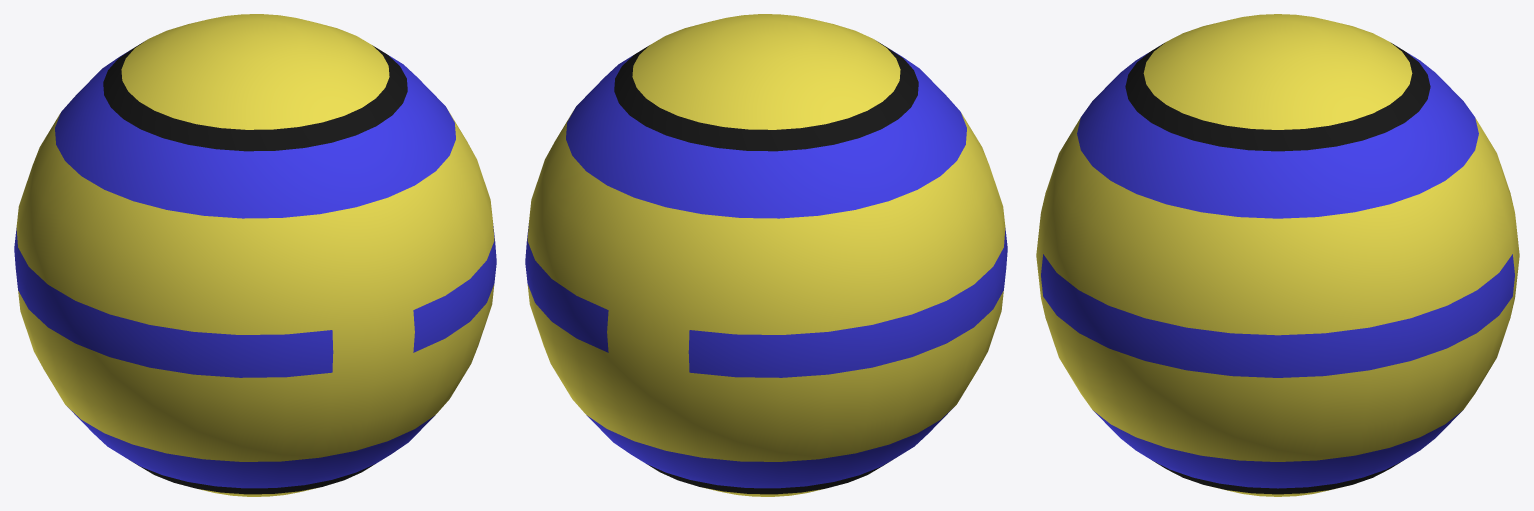
The model's file is ball_yellow.fbx.
3 views of the same model, side by side, from view 1: azimuth 30°, elevation 25°; view 2: azimuth 150°, elevation 25°; view 3: azimuth 270°, elevation 25° (orthographic).
Parts seen in each view (by area): view 1: Ball; view 2: Ball; view 3: Ball.
Part boxes in pixels (left/top/right/bottom): Ball: left=14, top=14, right=496, bottom=496; Ball: left=525, top=14, right=1007, bottom=496; Ball: left=1036, top=14, right=1519, bottom=496.
Bounding box in the file's own units: 0.23 × 0.23 × 0.23.
